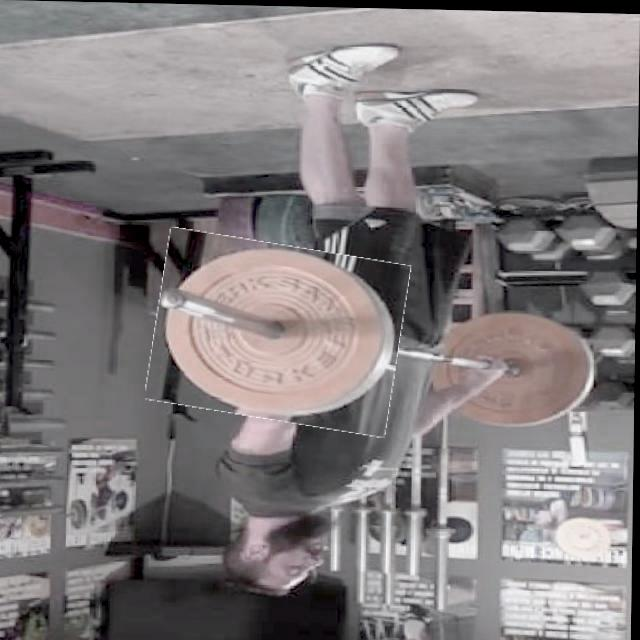barbell: (151, 233, 407, 429)
